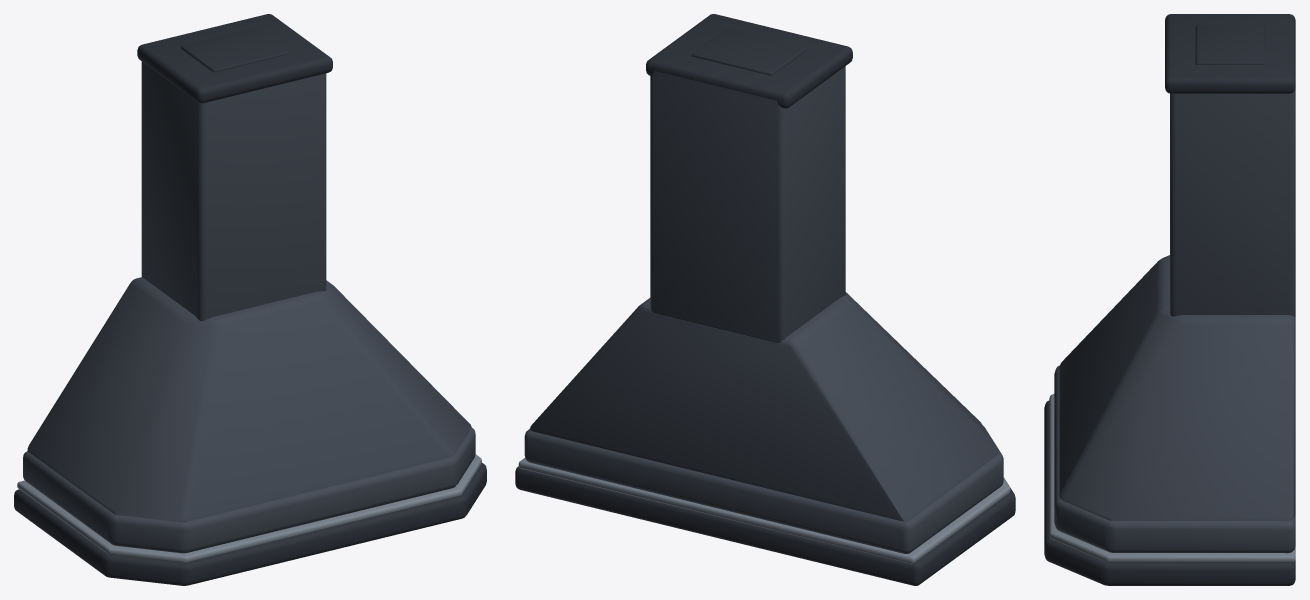
The model's file is coifa_piramide_grafite.glb.
The picture shows the model from 3 angles, left to right: view 1: azimuth 30°, elevation 25°; view 2: azimuth 150°, elevation 25°; view 3: azimuth 270°, elevation 25°; orthographic projection. The views are drawn at different scales.
Parts seen in each view (by area): view 1: coifa_piramide_grafite; view 2: coifa_piramide_grafite; view 3: coifa_piramide_grafite.
Part boxes in pixels (<box>): coifa_piramide_grafite: <box>14,14,486,585</box>; coifa_piramide_grafite: <box>515,14,1015,585</box>; coifa_piramide_grafite: <box>1044,14,1295,585</box>.
Size of the model in its own units: 0.9 by 0.989 by 0.5.
Materials: 2 (1 with a texture image).
